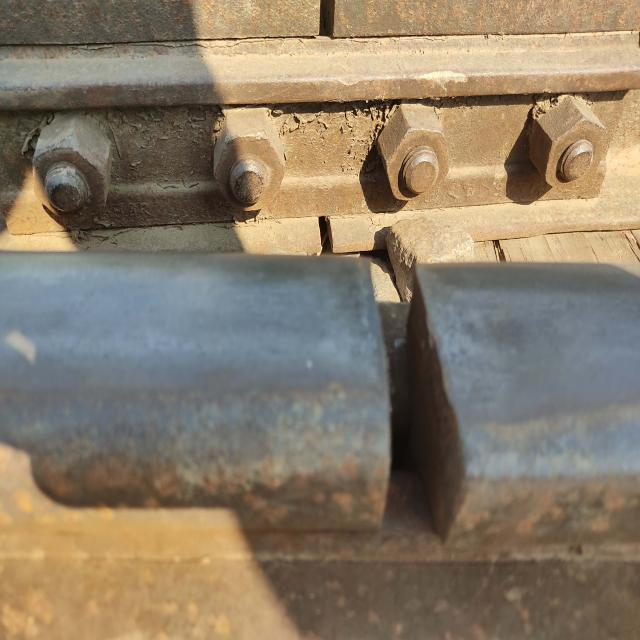Good Joint: (0, 32, 640, 234)
